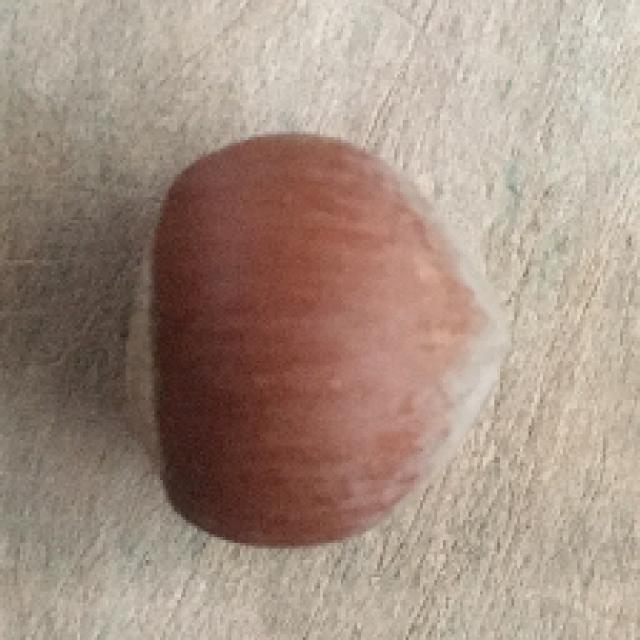qualityHazelnut: (119, 126, 516, 551)
